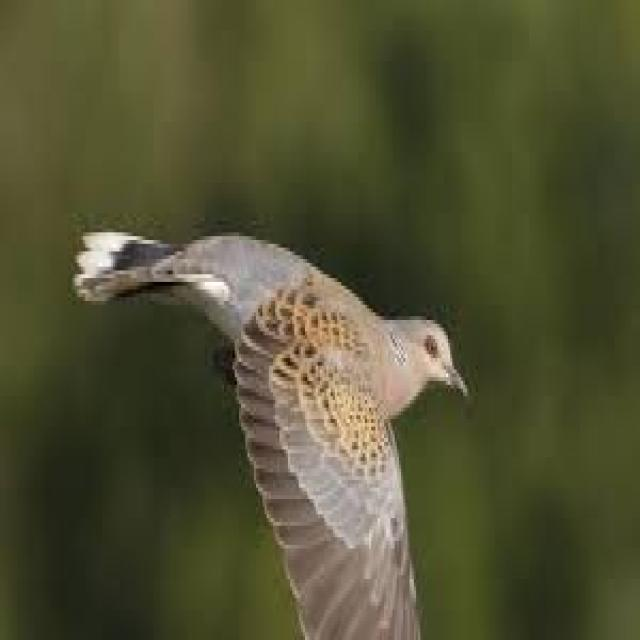pigeon: (64, 158, 477, 640)
